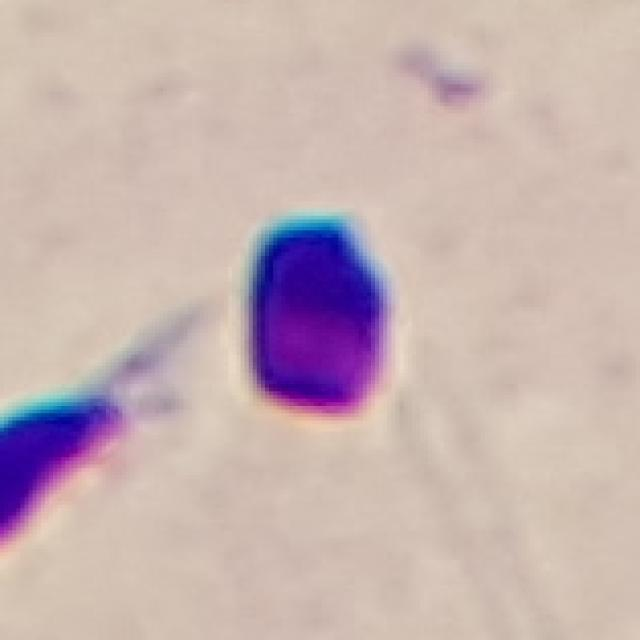non-sperm: (213, 204, 414, 426)
